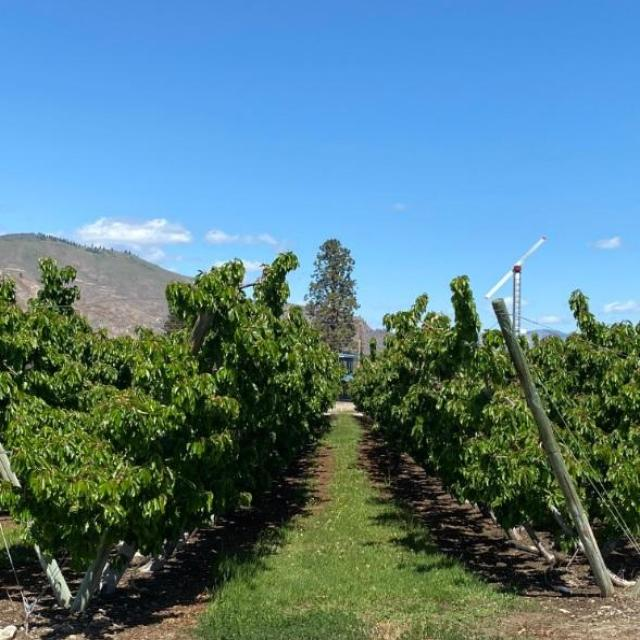row: (141, 410, 586, 639)
